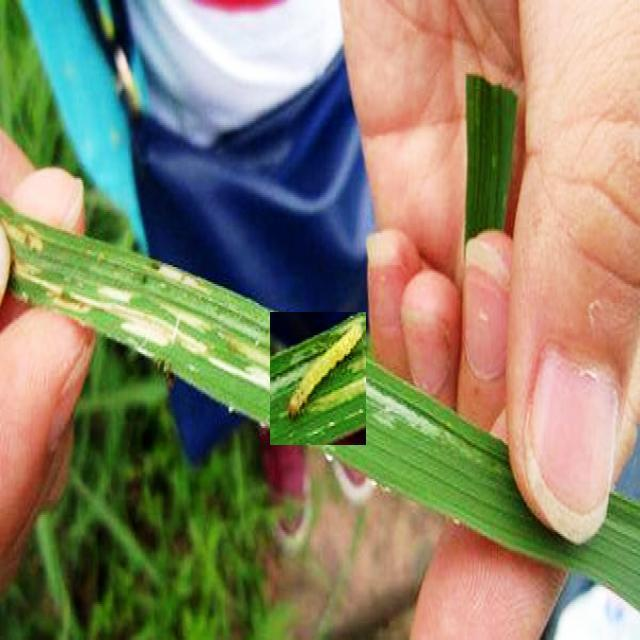leaf-folder: (270, 312, 366, 445)
